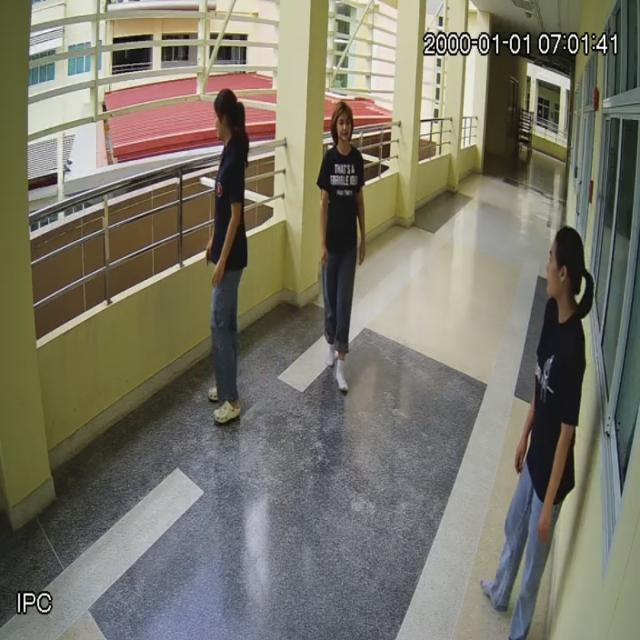normal: (488, 225, 588, 640), (202, 88, 250, 425), (321, 102, 366, 393)
